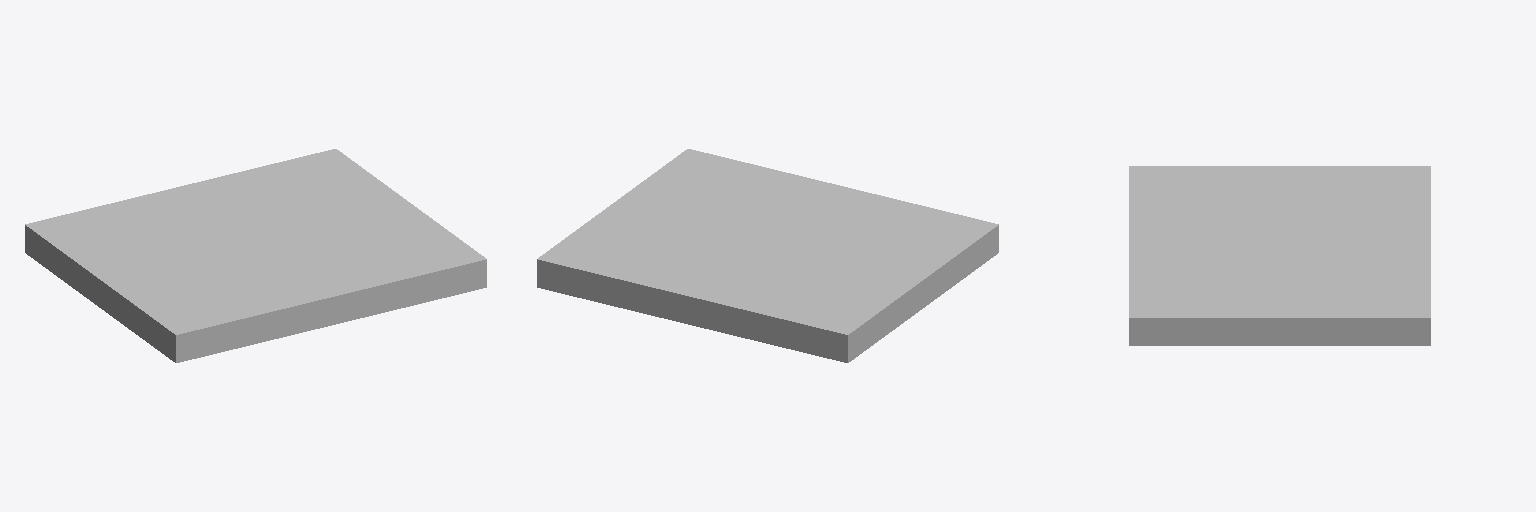
The model's file is vent.obj.
The picture shows the model from 3 angles: view 1: azimuth 30°, elevation 25°; view 2: azimuth 150°, elevation 25°; view 3: azimuth 270°, elevation 25°; orthographic projection.
Visible parts, largest first — view 1: Vent; view 2: Vent; view 3: Vent.
Part boxes in pixels (x1,y1,x2,y2): Vent: (25, 149, 486, 362); Vent: (537, 149, 998, 362); Vent: (1129, 166, 1430, 345).
Bounding box in the file's own units: 11.52 × 1 × 9.7.